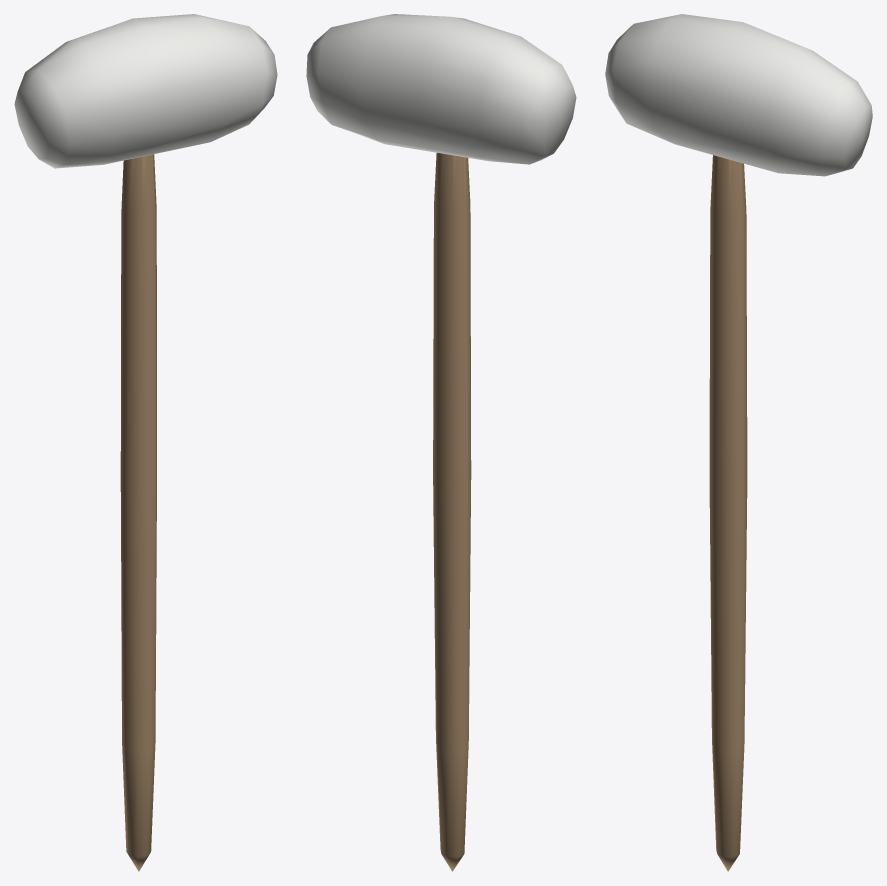
The model's file is hammer.glb.
3 renders of one model, left to right at view 1: azimuth 30°, elevation 25°; view 2: azimuth 150°, elevation 25°; view 3: azimuth 330°, elevation 25°, orthographic.
Parts seen in each view (by area): view 1: Head, Shaft; view 2: Head, Shaft; view 3: Head, Shaft.
Part boxes in pixels (bbox=[...]): Head: bbox=[14, 14, 277, 168]; Shaft: bbox=[120, 154, 156, 871]; Head: bbox=[306, 14, 576, 164]; Shaft: bbox=[433, 153, 471, 871]; Head: bbox=[605, 14, 872, 176]; Shaft: bbox=[709, 155, 747, 871].
Size of the model in its own units: 0.2652 by 0.8777 by 0.1131.
